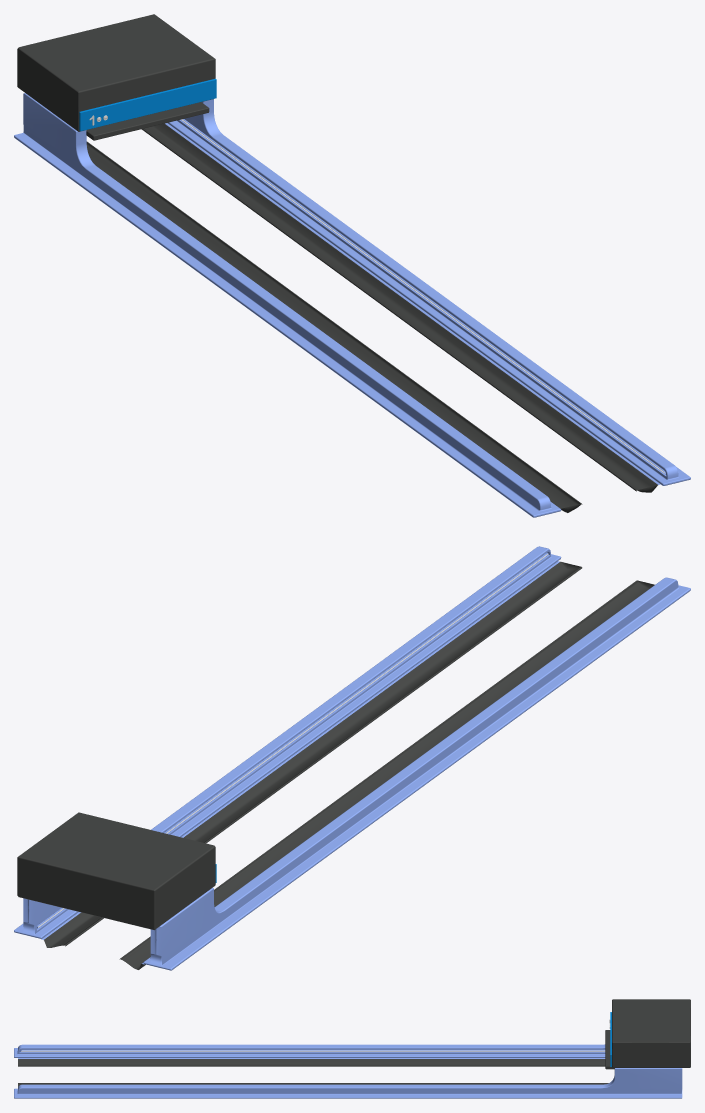
File: Bowling Lane Sides Plus Box.fbx
3 views of the same model, one above another, from view 1: azimuth 30°, elevation 25°; view 2: azimuth 150°, elevation 25°; view 3: azimuth 270°, elevation 25° (orthographic). The views are drawn at different scales.
Parts seen in each view (by area): view 1: Lane Metal Side L, Lane End Box, Lane Metal Side R, Lane Ball Catcher R, Lane Ball Catcher L, Bowling Lane Stopper; view 2: Lane Metal Side L, Lane End Box, Lane Metal Side R, Lane Ball Catcher R, Lane Ball Catcher L; view 3: Lane Metal Side R, Lane Metal Side L, Lane End Box, Lane Ball Catcher L, Lane Ball Catcher R, Bowling Lane Stopper.
Part boxes in pixels (bbox=[...]): Lane Metal Side L: bbox=[14, 93, 561, 517]; Lane End Box: bbox=[17, 14, 216, 131]; Lane Metal Side R: bbox=[167, 99, 690, 485]; Lane Ball Catcher R: bbox=[141, 123, 660, 492]; Lane Ball Catcher L: bbox=[86, 141, 582, 512]; Bowling Lane Stopper: bbox=[86, 102, 209, 140]; Lane Metal Side L: bbox=[143, 577, 690, 970]; Lane End Box: bbox=[17, 812, 216, 930]; Lane Metal Side R: bbox=[14, 546, 561, 938]; Lane Ball Catcher R: bbox=[41, 561, 582, 947]; Lane Ball Catcher L: bbox=[119, 580, 654, 969]; Lane Metal Side R: bbox=[14, 1068, 682, 1098]; Lane Metal Side L: bbox=[14, 1044, 605, 1057]; Lane End Box: bbox=[610, 999, 690, 1067]; Lane Ball Catcher L: bbox=[18, 1058, 605, 1066]; Lane Ball Catcher R: bbox=[18, 1083, 608, 1086]; Bowling Lane Stopper: bbox=[605, 1030, 614, 1069].
Size of the model in its own units: 331 by 181 by 1912.
